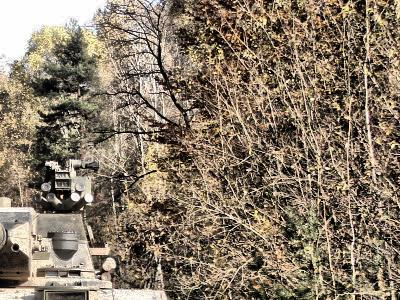tanks: (1, 204, 169, 300)
